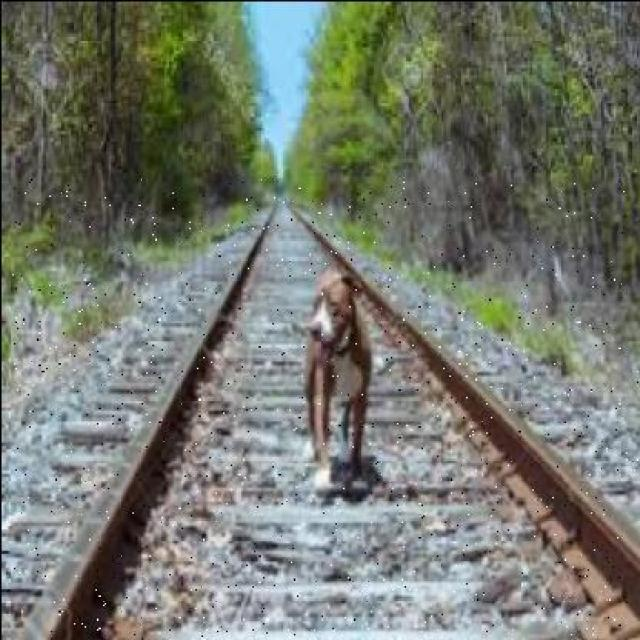danger: (297, 264, 377, 498)
rail: (9, 177, 640, 635)
